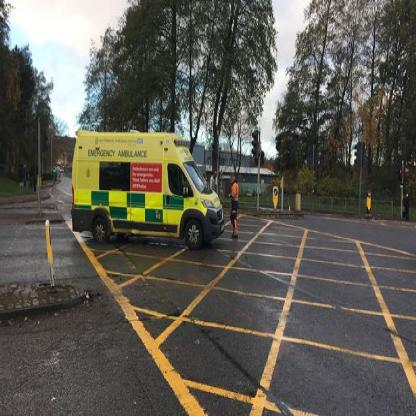Ambulance - v1 Ambulance last generate: (67, 135, 226, 248)
